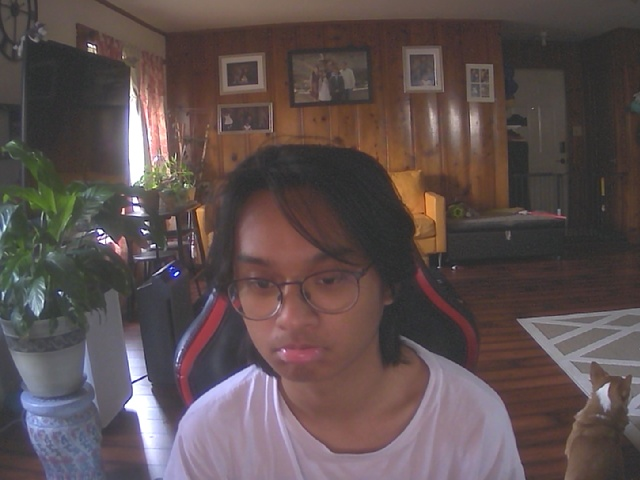sad: (219, 154, 402, 386)
